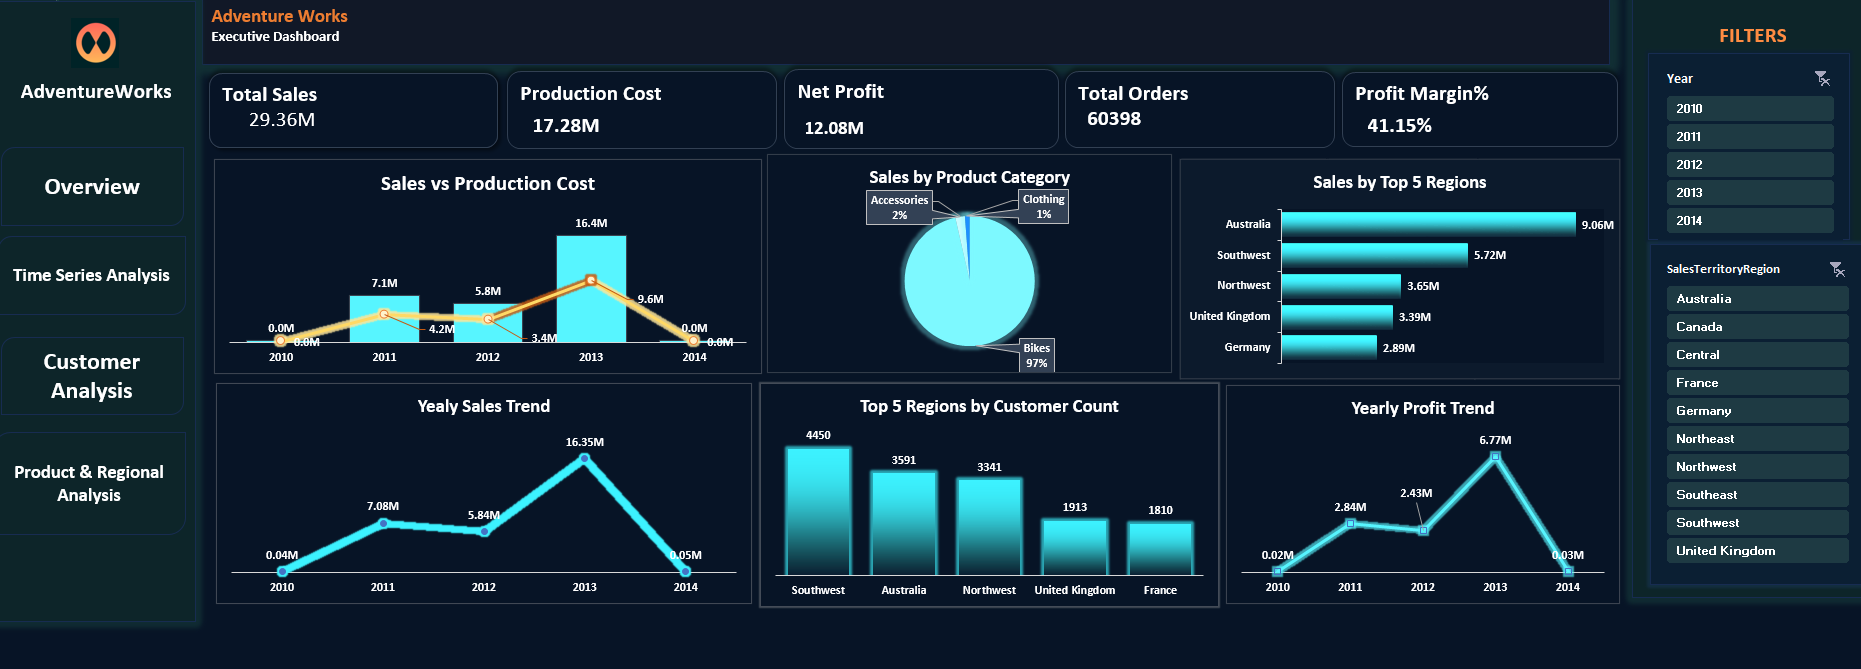

This screenshot's page, from the dashboard's own definition file:
{"tool":"tableau","page":{"name":"Overview Dashboard","canvas":[1000,1000],"units":"permille","ordinal":2},"visuals":[{"type":"dashboard-object","box":[5.4,10.5,88.1,169.6]},{"type":"text","box":[93.5,10.5,824.1,110.3]},{"type":"dashboard-object","box":[917.6,10.5,77,110.3]},{"type":"worksheet","title":"Total Sales","mark":"Automatic","box":[93.5,120.7,171.2,128.9]},{"type":"worksheet","title":"Production Cost","mark":"Automatic","box":[264.7,120.7,207,128.9]},{"type":"worksheet","title":"Profit","mark":"Automatic","box":[471.7,120.7,185.1,128.9]},{"type":"worksheet","title":"Profit Margin %","mark":"Automatic","box":[656.8,120.7,189.3,128.9]},{"type":"worksheet","title":"Total Customers","mark":"Automatic","box":[846.1,120.7,148.5,128.9]},{"type":"image","param":"Image/sales.png","box":[99,145.2,25.4,138.2]},{"type":"dashboard-object","box":[7.2,181.2,83.9,117.3]},{"type":"image","param":"Image/product cost1.jpg","box":[279.4,188.2,34.4,49.9]},{"type":"image","param":"Image/profit11.png","box":[476.8,188.2,31.4,62.7]},{"type":"image","param":"Image/profit margin.jpg","box":[668.1,190.5,41.6,59.2]},{"type":"image","param":"Image/total cust.jpg","box":[850.9,190.5,25.4,45.3]},{"type":"worksheet","title":"Subcategory Sales","mark":"Automatic","rows":["EnglishProductSubcategoryName"],"cols":["Calculation_5284129741743640577"],"box":[93.5,249.6,266.7,383]},{"type":"worksheet","title":"Product Category Contribution","mark":"Pie","box":[360.2,249.6,296.7,383]},{"type":"worksheet","title":"Customer Distribution","mark":"Automatic","box":[656.9,249.6,337.7,739.9]},{"type":"dashboard-object","box":[16.3,262.5,64,92.9]},{"type":"dashboard-object","box":[7.2,358.9,84.5,123.1]},{"type":"dashboard-object","box":[16.3,439,69.4,108]},{"type":"dashboard-object","box":[7.2,554,83.9,138.2]},{"type":"worksheet","title":"Yearly Sales Trend","mark":"Area","rows":["Calculation_5284129741743640577"],"cols":["Calculation_5284129741743005696"],"box":[93.5,632.6,266.7,356.9]},{"type":"worksheet","title":"Regional Sales1","mark":"Automatic","rows":["Calculation_5284129741743640577","Calculation_5284129741743640577"],"cols":["SalesTerritoryCountry"],"box":[360.2,632.6,296.7,356.9]},{"type":"dashboard-object","box":[15.1,646.9,65.2,91.8]},{"type":"filter","title":"Yearly Sales Trend","param":"[federated.0e6db3f146nowf1dx3vmm1ianpzm].[yr:Calculation_5284129741743005696:ok]","box":[5.4,751.5,86.3,63.9]},{"type":"filter","title":"Product Category Contribution","param":"[federated.0e6db3f146nowf1dx3vmm1ianpzm].[none:EnglishProductCategoryName:nk]","box":[5.4,829.3,87.5,63.9]},{"type":"filter","title":"Customer Distribution","param":"[federated.0e6db3f146nowf1dx3vmm1ianpzm].[none:SalesTerritoryCountry:nk]","box":[5.4,903.6,87.5,63.9]}]}

Visuals, with their boxes on the dashboard's canvas, which has no fixed pixel size, in thousandths of its width and height (x1, y1, x2, y2). These are canvas units, not pixel positions in the 1861x669 screenshot, which may show the page scaled, cropped or inside an application window:
dashboard-object: bbox(5, 10, 94, 180)
text: bbox(94, 10, 918, 121)
dashboard-object: bbox(918, 10, 995, 121)
"Total Sales" worksheet: bbox(94, 121, 265, 250)
"Production Cost" worksheet: bbox(265, 121, 472, 250)
"Profit" worksheet: bbox(472, 121, 657, 250)
"Profit Margin %" worksheet: bbox(657, 121, 846, 250)
"Total Customers" worksheet: bbox(846, 121, 995, 250)
image: bbox(99, 145, 124, 283)
dashboard-object: bbox(7, 181, 91, 298)
image: bbox(279, 188, 314, 238)
image: bbox(477, 188, 508, 251)
image: bbox(668, 190, 710, 250)
image: bbox(851, 190, 876, 236)
"Subcategory Sales" worksheet: bbox(94, 250, 360, 633)
"Product Category Contribution" worksheet (Pie marks): bbox(360, 250, 657, 633)
"Customer Distribution" worksheet: bbox(657, 250, 995, 990)
dashboard-object: bbox(16, 262, 80, 355)
dashboard-object: bbox(7, 359, 92, 482)
dashboard-object: bbox(16, 439, 86, 547)
dashboard-object: bbox(7, 554, 91, 692)
"Yearly Sales Trend" worksheet (Area marks): bbox(94, 633, 360, 990)
"Regional Sales1" worksheet: bbox(360, 633, 657, 990)
dashboard-object: bbox(15, 647, 80, 739)
"Yearly Sales Trend" filter: bbox(5, 752, 92, 815)
"Product Category Contribution" filter: bbox(5, 829, 93, 893)
"Customer Distribution" filter: bbox(5, 904, 93, 968)
